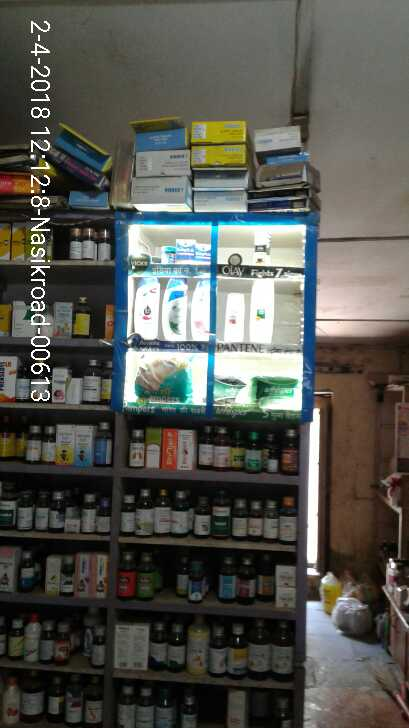vicks: (159, 238, 212, 268)
